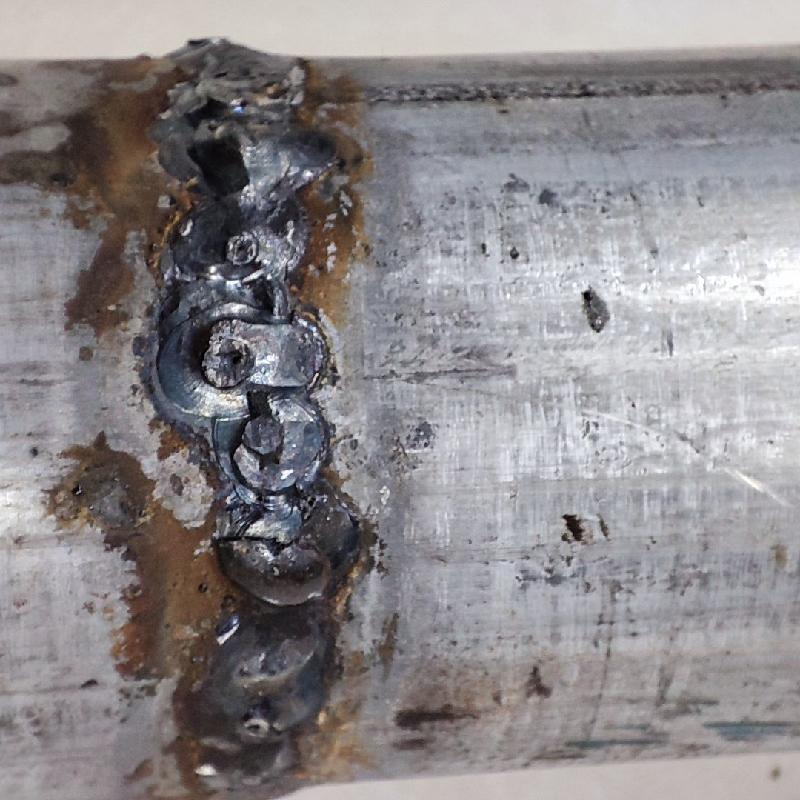Surface_pores: (210, 339, 254, 372), (192, 113, 234, 140), (228, 233, 262, 262)
wrong_size: (138, 28, 361, 751), (196, 510, 353, 614)
